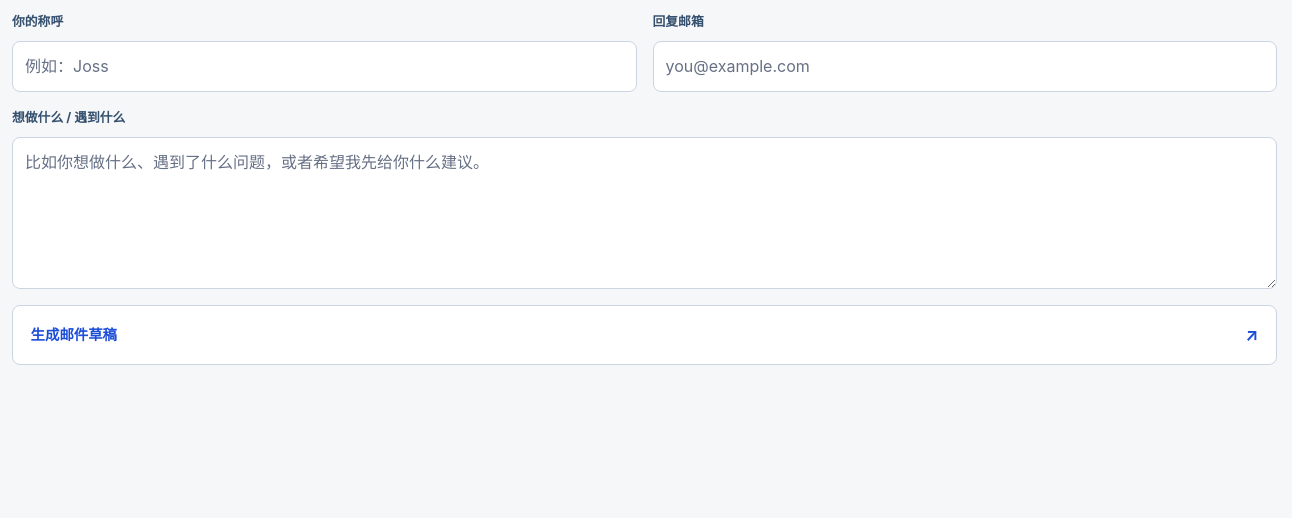
ContactForm › generates a mail draft and preserves the form values
The image size is (1292, 518).
In the field named "name": x=324, y=67 [12,41,636,92], type "Codex"
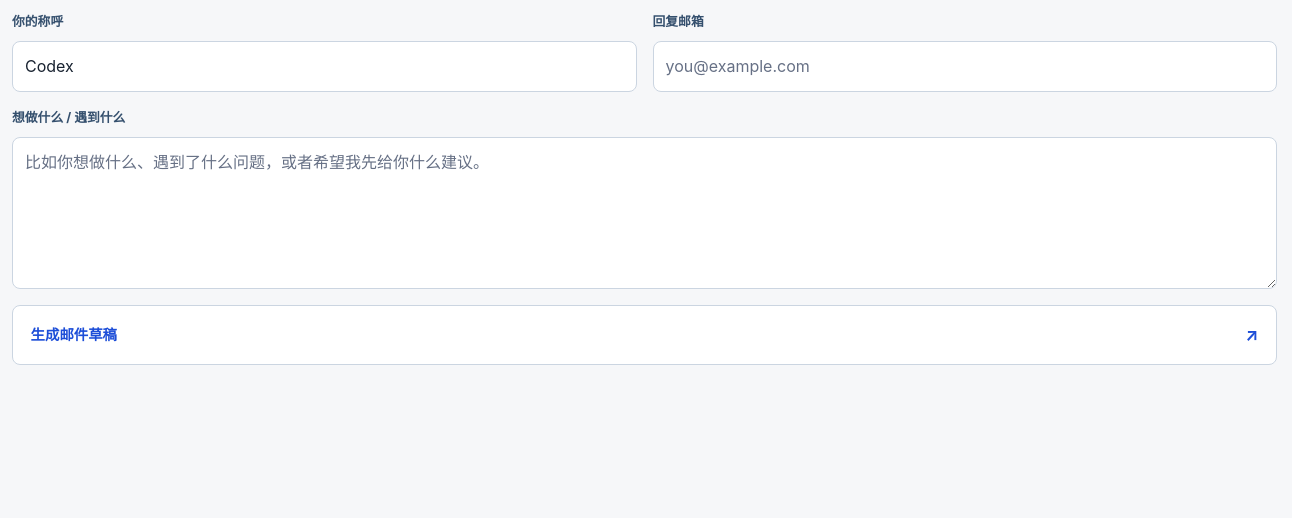
In the field named "email": x=965, y=67 [652,41,1277,92], type "codex@thanejoss.com"
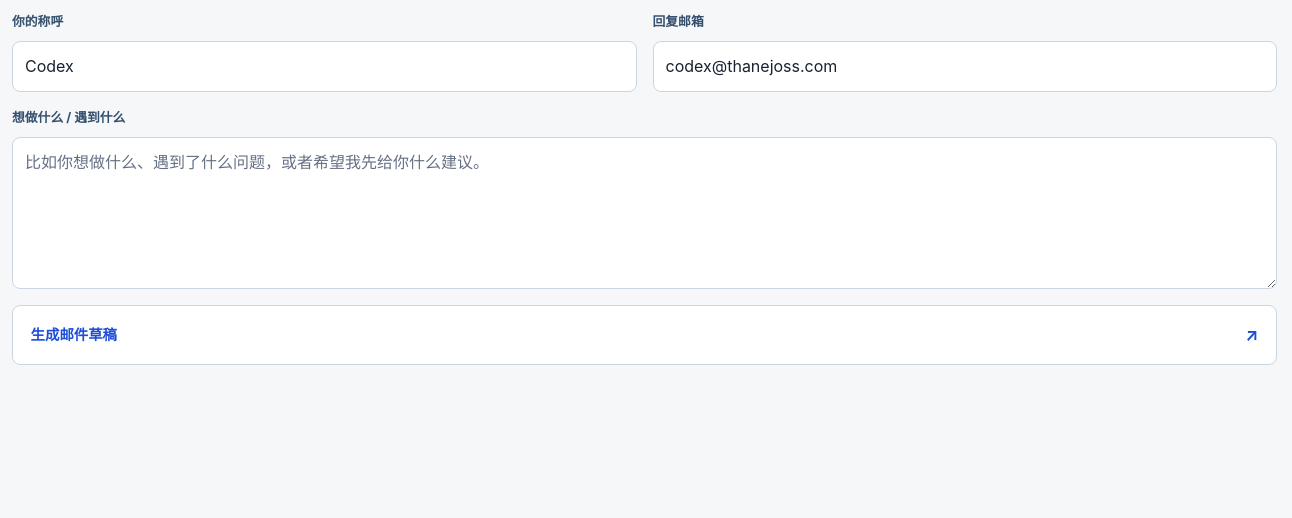
In the text box named "message": x=644, y=213 [12,137,1277,289], type "Need a launch page"
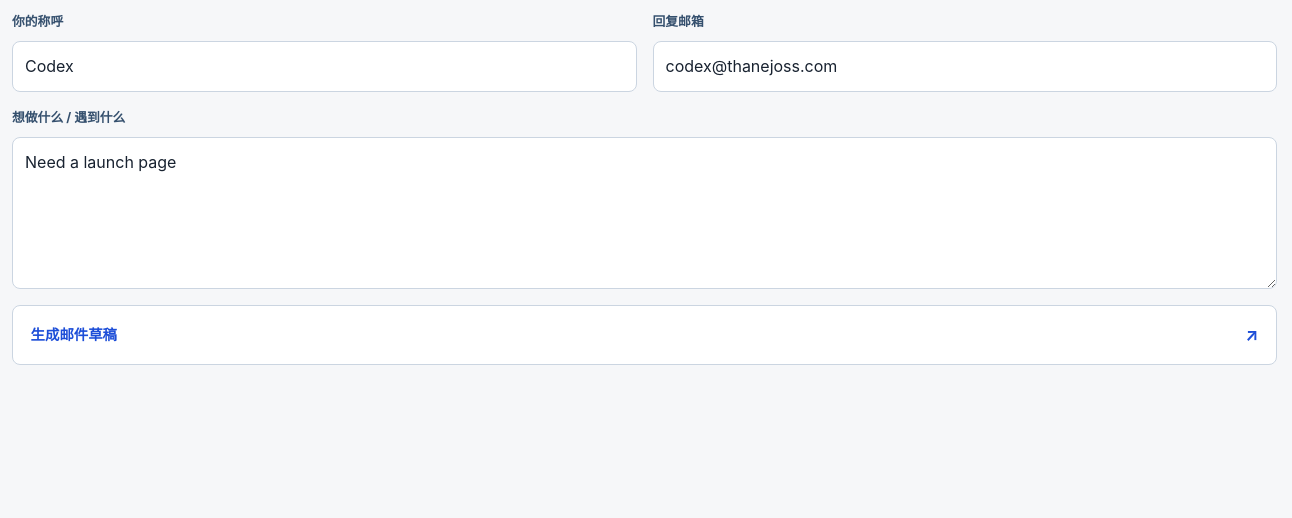
Submit the form
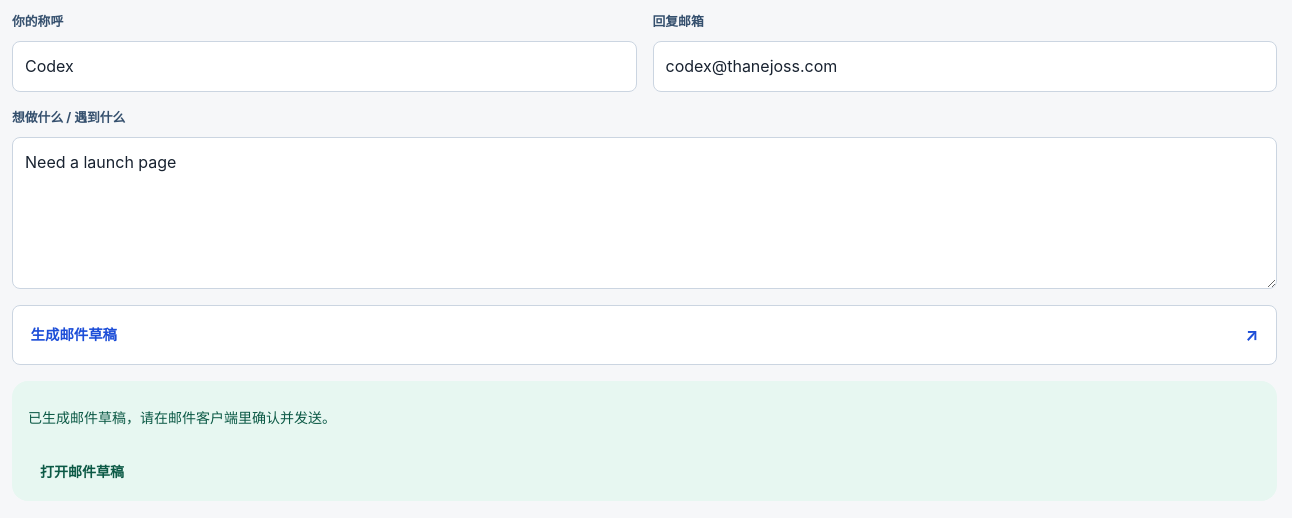
expect the form shows "已生成邮件草稿，请在邮件客户端里确认并发送。": met, box [28,409,336,426]
